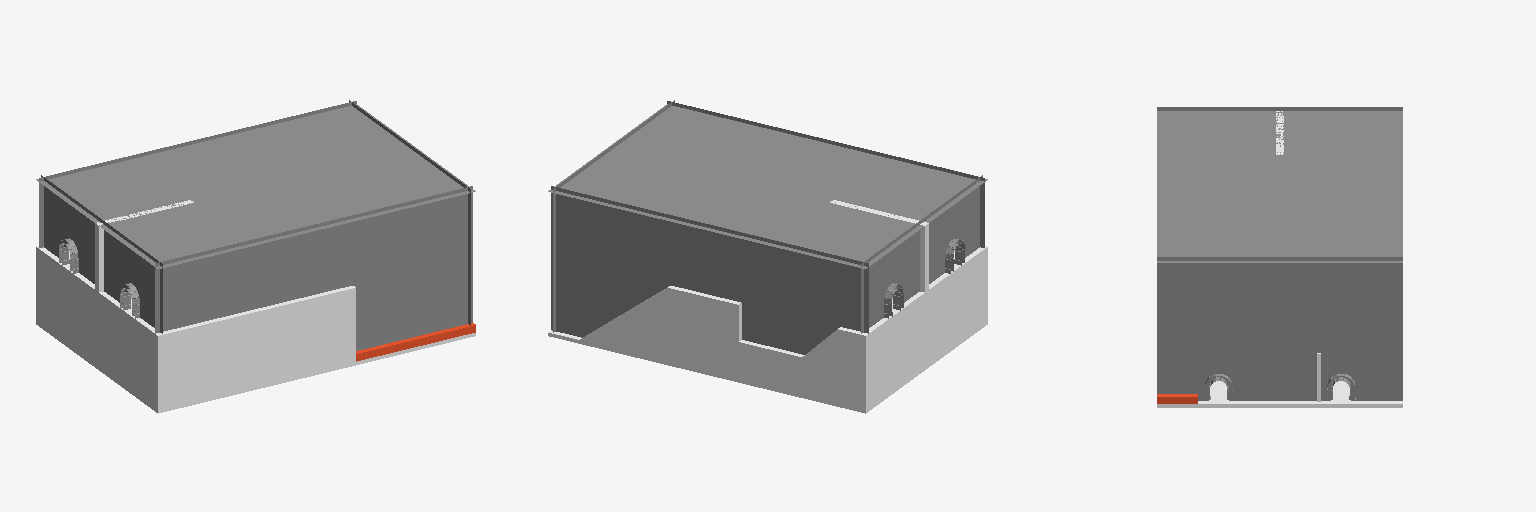
Rendered from crossover.obj.
3 renders of one model, left to right at view 1: azimuth 30°, elevation 25°; view 2: azimuth 150°, elevation 25°; view 3: azimuth 270°, elevation 25°, orthographic.
Parts seen in each view (by area): view 1: struct_ceiling_57, struct_wall_main_half_52, block_default_30, block_default_40, struct_wall_main_half_50, block_default_17, struct_wall_main_half_51, open_block_59, struct_wall_main_half_47, block_default_44, struct_door_43, struct_door_42 (+3 smaller); view 2: struct_ceiling_57, struct_wall_main_half_51, block_default_40, block_default_31, block_default_37, slope_default_35, struct_wall_main_half_50, block_default_17, struct_wall_main_half_52, struct_wall_main_half_47, block_default_44, struct_door_42 (+5 smaller); view 3: struct_ceiling_57, struct_wall_main_half_56, struct_wall_main_half_55, block_default_17, struct_wall_main_half_53, struct_wall_main_half_54, struct_door_18, struct_door_19, struct_wall_main_half_50.
Part boxes in pixels (left/top/right/bottom): struct_ceiling_57: left=36, top=104, right=475, bottom=268; struct_wall_main_half_52: left=155, top=186, right=472, bottom=350; block_default_30: left=184, top=286, right=355, bottom=402; block_default_40: left=36, top=246, right=185, bottom=409; struct_wall_main_half_50: left=41, top=175, right=162, bottom=296; block_default_17: left=36, top=321, right=475, bottom=413; struct_wall_main_half_51: left=39, top=101, right=356, bottom=247; open_block_59: left=356, top=323, right=475, bottom=361; struct_wall_main_half_47: left=82, top=238, right=122, bottom=302; block_default_44: left=95, top=200, right=193, bottom=365; struct_door_43: left=59, top=223, right=81, bottom=274; struct_door_42: left=120, top=268, right=142, bottom=318; struct_ceiling_57: left=548, top=104, right=987, bottom=268; struct_wall_main_half_51: left=551, top=186, right=868, bottom=354; block_default_40: left=838, top=246, right=987, bottom=409; block_default_31: left=668, top=286, right=741, bottom=378; block_default_37: left=739, top=340, right=837, bottom=402; slope_default_35: left=580, top=287, right=667, bottom=361; struct_wall_main_half_50: left=861, top=175, right=982, bottom=296; block_default_17: left=548, top=321, right=987, bottom=413; struct_wall_main_half_52: left=667, top=101, right=984, bottom=247; struct_wall_main_half_47: left=901, top=238, right=941, bottom=302; block_default_44: left=830, top=200, right=928, bottom=291; struct_door_42: left=942, top=223, right=964, bottom=274; struct_ceiling_57: left=1157, top=111, right=1402, bottom=262; struct_wall_main_half_56: left=1157, top=257, right=1402, bottom=363; struct_wall_main_half_55: left=1239, top=364, right=1316, bottom=400; block_default_17: left=1157, top=381, right=1402, bottom=407; struct_wall_main_half_53: left=1362, top=364, right=1402, bottom=400; struct_wall_main_half_54: left=1157, top=364, right=1197, bottom=393; struct_door_18: left=1321, top=364, right=1361, bottom=400; struct_door_19: left=1198, top=364, right=1238, bottom=400; struct_wall_main_half_50: left=1157, top=107, right=1402, bottom=110.
Size of the model in its own units: 9 by 4 by 6.